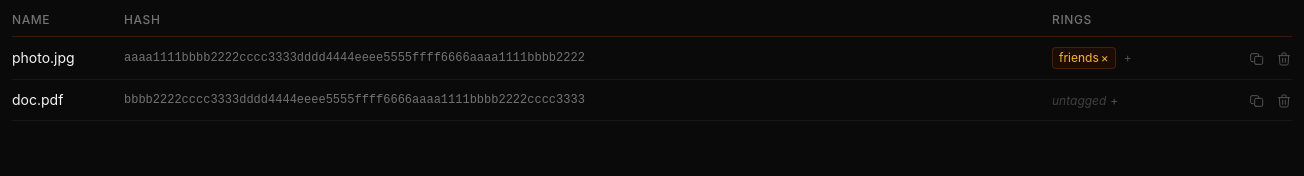
Test: BlobTable › shows delete confirmation on delete button click
The image size is (1304, 176).
Click the button named "Delete blob" in the row of "photo.jpg": (1284, 58) [1276,48,1292,68]
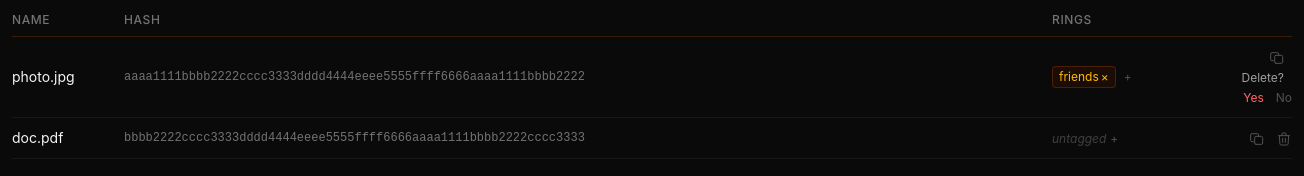
Now the text "Delete?" is shown, box [1242,70,1284,85]
